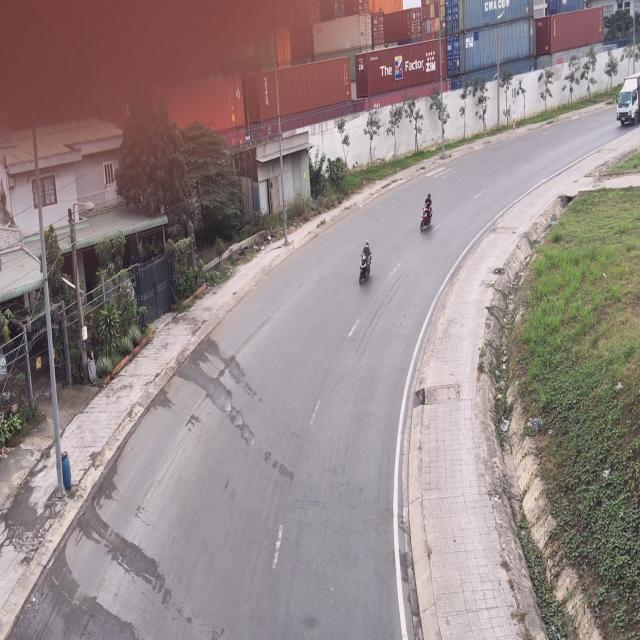motorbike: (357, 240, 373, 288), (417, 193, 434, 237)
truck: (614, 73, 640, 126)
